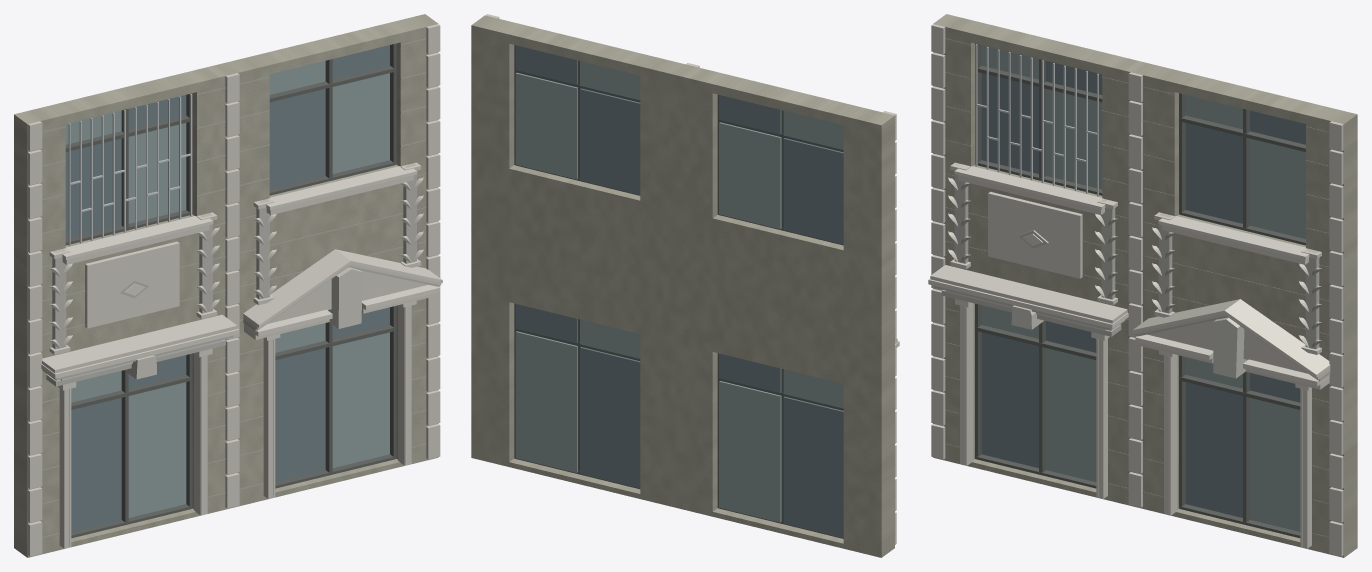
The model's file is hongkong-117-pedimented-windows-near.glb.
The picture shows the model from 3 angles, left to right: view 1: azimuth 30°, elevation 25°; view 2: azimuth 150°, elevation 25°; view 3: azimuth 330°, elevation 25°; orthographic projection.
Parts seen in each view (by area): view 1: 香港路117号键石窗楣与三角窗山花; view 2: 香港路117号键石窗楣与三角窗山花; view 3: 香港路117号键石窗楣与三角窗山花.
Boxes of the visible parts, box(x1,y1,x2,y2) form: 香港路117号键石窗楣与三角窗山花: box(14, 14, 442, 557); 香港路117号键石窗楣与三角窗山花: box(471, 14, 899, 557); 香港路117号键石窗楣与三角窗山花: box(928, 14, 1357, 557).
Size of the model in its own units: 5.06 by 5.1 by 0.634.
Materials: 12 (1 with a texture image).
